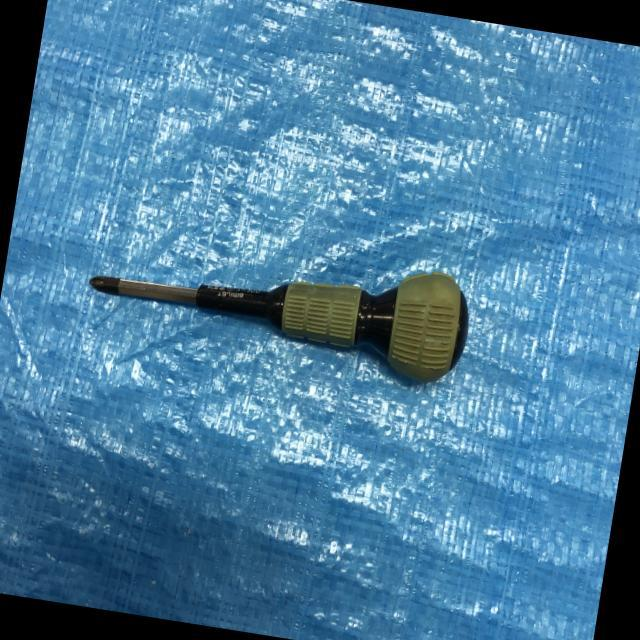screwdriver: (78, 214, 480, 390)
